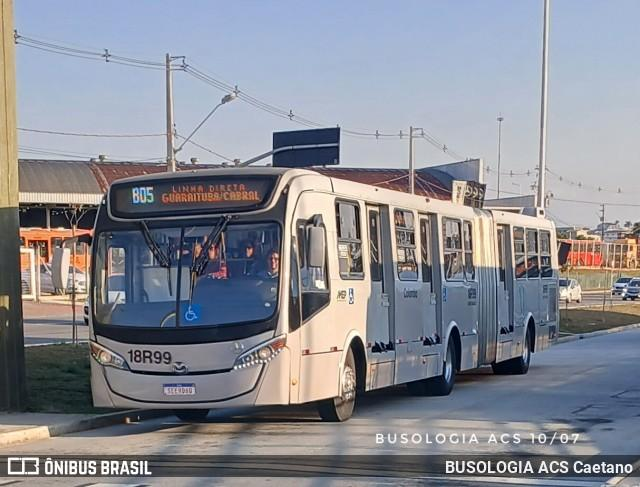GUARAITUBA CABRAL: (159, 189, 265, 207)
